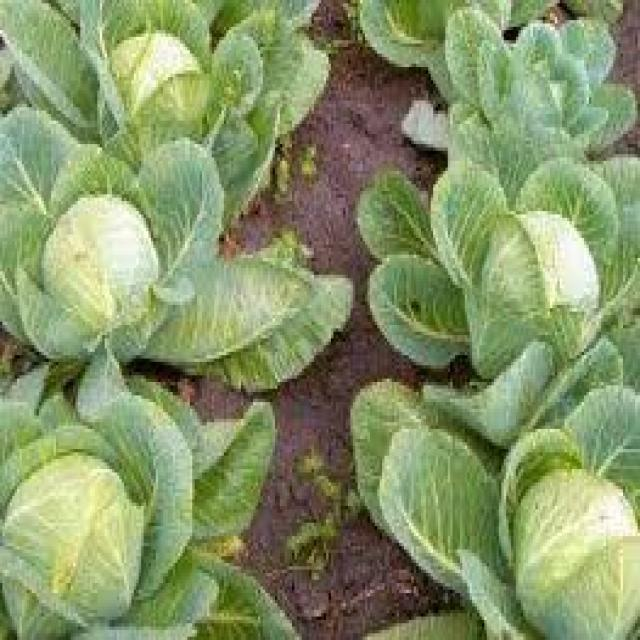cabbage: (31, 162, 216, 414), (0, 393, 172, 639), (478, 410, 640, 640), (486, 205, 640, 435), (494, 0, 640, 192), (85, 12, 215, 144)
